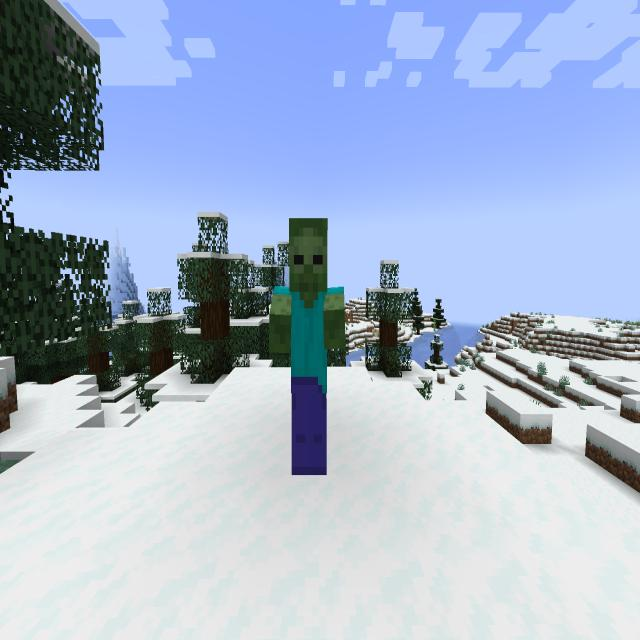Zombie: (261, 205, 356, 493)
